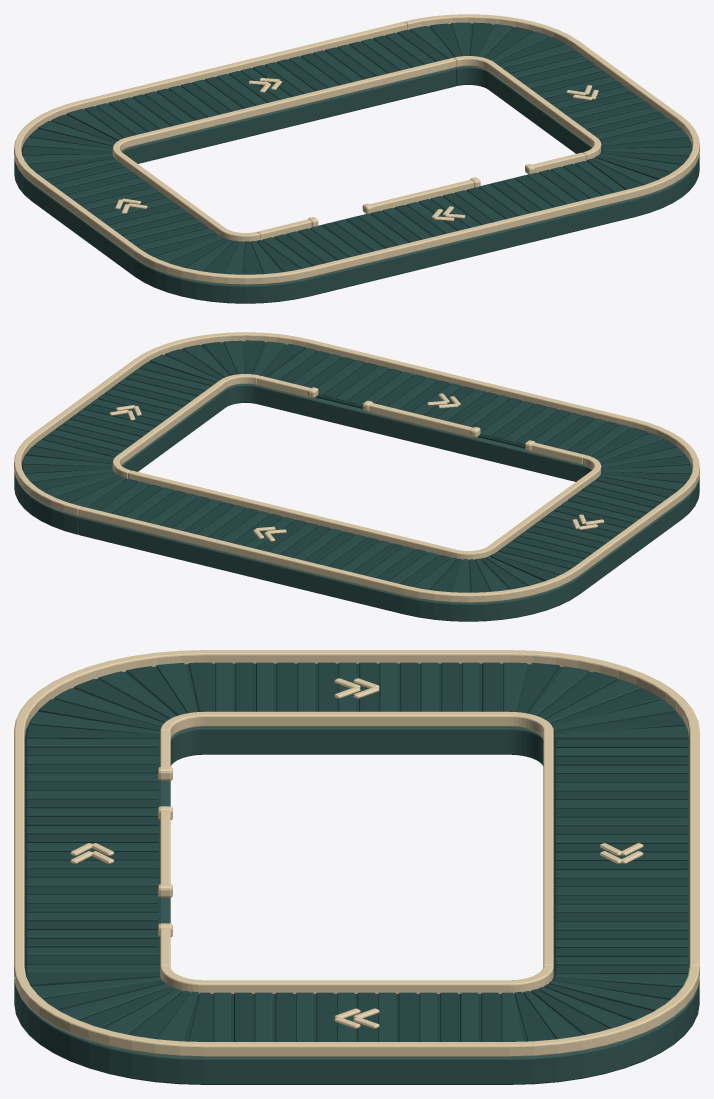
Rendered from Belt_Loop_Level_02.fbx.
The picture shows the model from 3 angles, top to bottom: view 1: azimuth 30°, elevation 25°; view 2: azimuth 150°, elevation 25°; view 3: azimuth 270°, elevation 25°; orthographic projection. The views are drawn at different scales.
Parts seen in each view (by area): view 1: Slats, Body, BeltSurface; view 2: Slats, Body, BeltSurface; view 3: Slats, Body, BeltSurface.
Boxes of the visible parts, <box> form: Slats: <box>22,22,691,274</box>; Body: <box>14,14,699,303</box>; BeltSurface: <box>21,23,692,274</box>; Slats: <box>22,340,691,592</box>; Body: <box>14,332,699,621</box>; BeltSurface: <box>21,341,692,592</box>; Slats: <box>26,662,687,1041</box>; Body: <box>14,650,699,1084</box>; BeltSurface: <box>24,663,689,1041</box>.
Size of the model in its own units: 7.44 by 0.3595 by 5.44.
